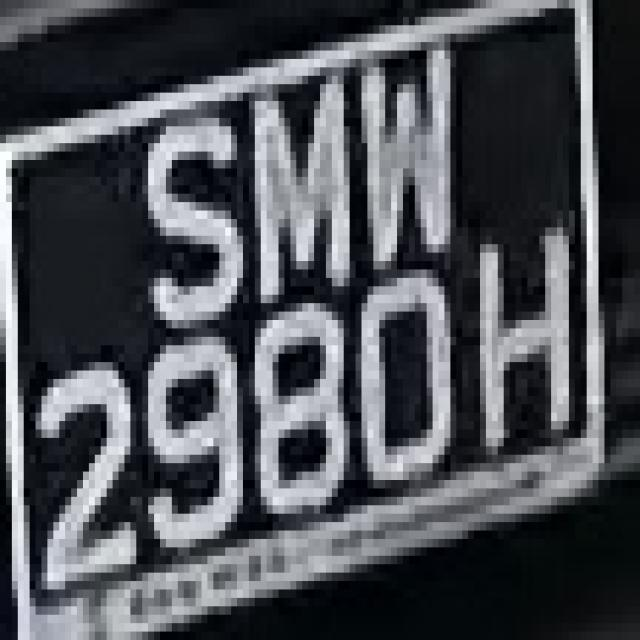0: (332, 244, 450, 480)
2: (30, 353, 160, 590)
8: (237, 295, 356, 547)
9: (142, 295, 249, 589)
H: (462, 211, 599, 463)
M: (231, 59, 362, 303)
S: (118, 84, 243, 328)
W: (350, 59, 462, 269)
